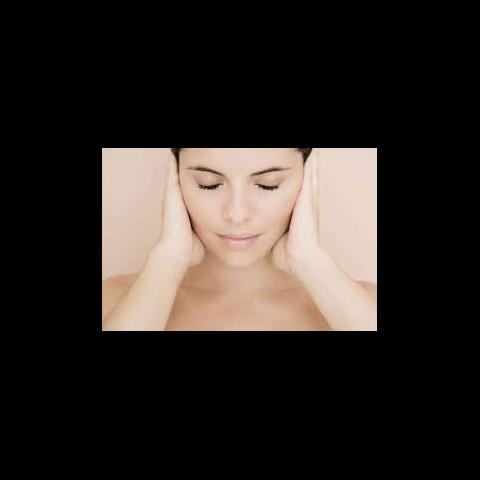closed: (180, 157, 294, 202)
